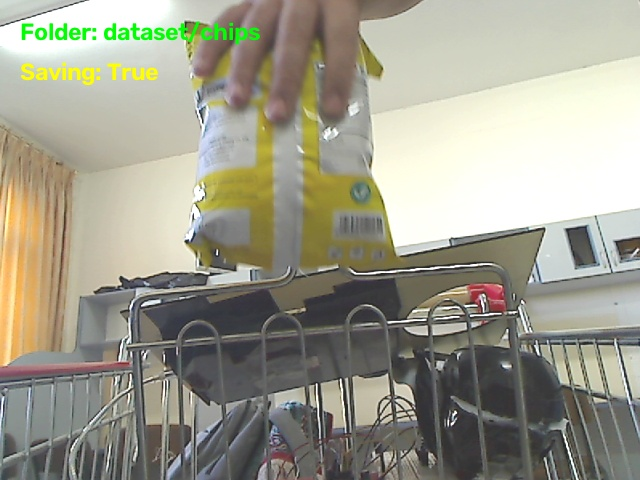chips: (185, 41, 396, 271)
